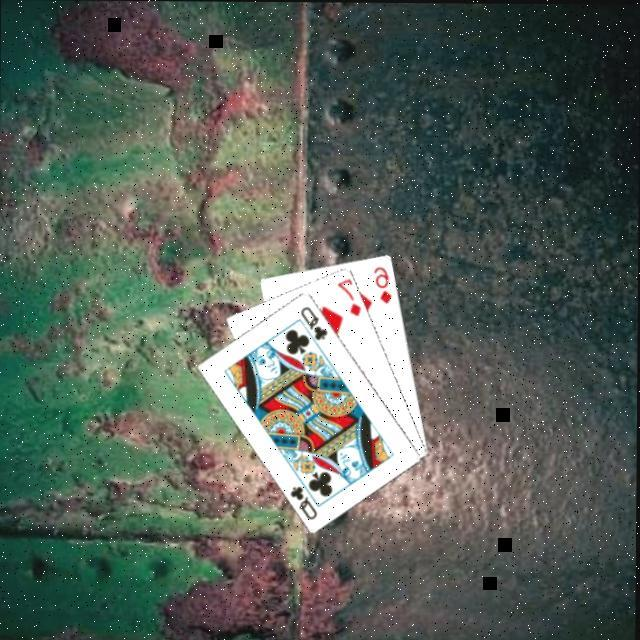6D: (369, 261, 394, 305)
7D: (333, 274, 363, 318)
QC: (295, 302, 329, 342), (285, 481, 319, 521)
